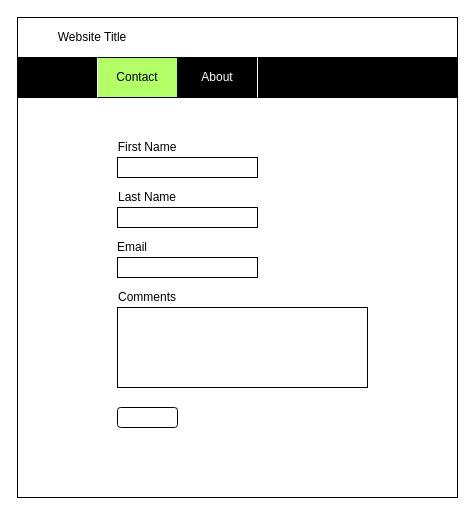
Image size: 475x515. Some labels were removed from this diagram. Each missing label, with the centre of its shape:
"Submit" goes at pixel 147 417.
"To-Do List" goes at pixel 57 77.
